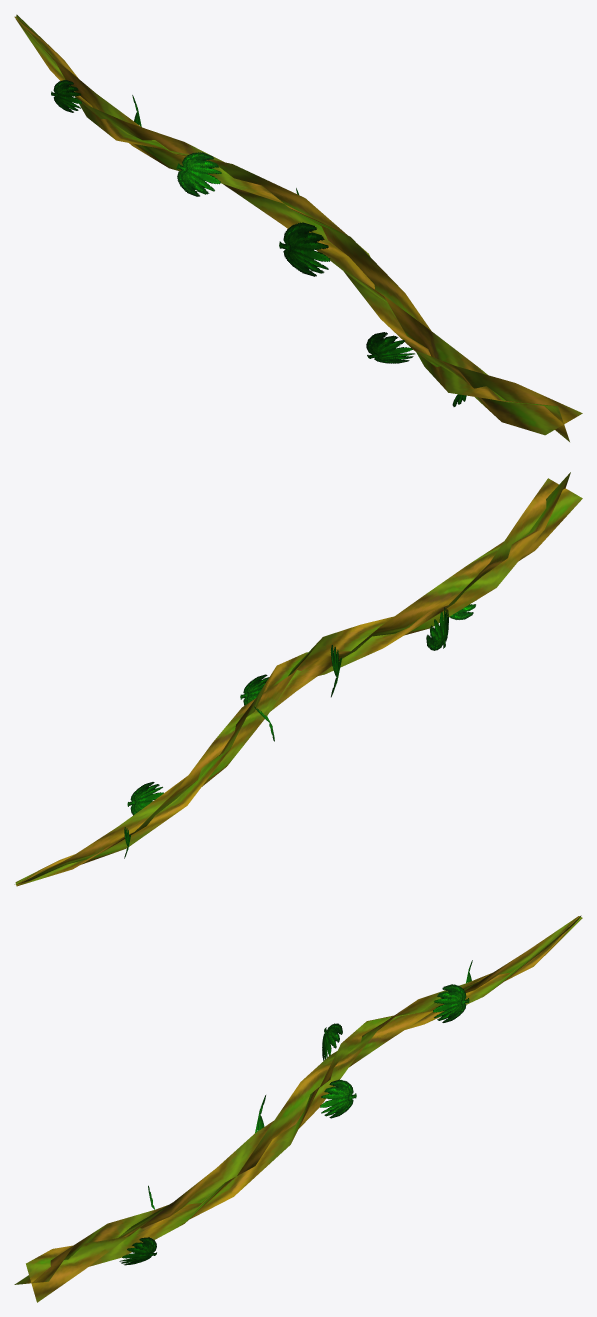
The model's file is EKH_GROTTO_ANIM_GR_TRIST_VINE_004__AI.obj.
3 renders of one model, top to bottom at view 1: azimuth 30°, elevation 25°; view 2: azimuth 150°, elevation 25°; view 3: azimuth 330°, elevation 25°, orthographic. The views are drawn at different scales.
Visible parts, largest first — view 1: st_Vine_004__AI; view 2: st_Vine_004__AI; view 3: st_Vine_004__AI.
Part boxes in pixels (box(x1,y1,x2,y2)): st_Vine_004__AI: box(14, 14, 582, 441); st_Vine_004__AI: box(14, 472, 582, 886); st_Vine_004__AI: box(14, 915, 582, 1302).
Bounding box in the file's own units: 31.36 × 31.65 × 361.
